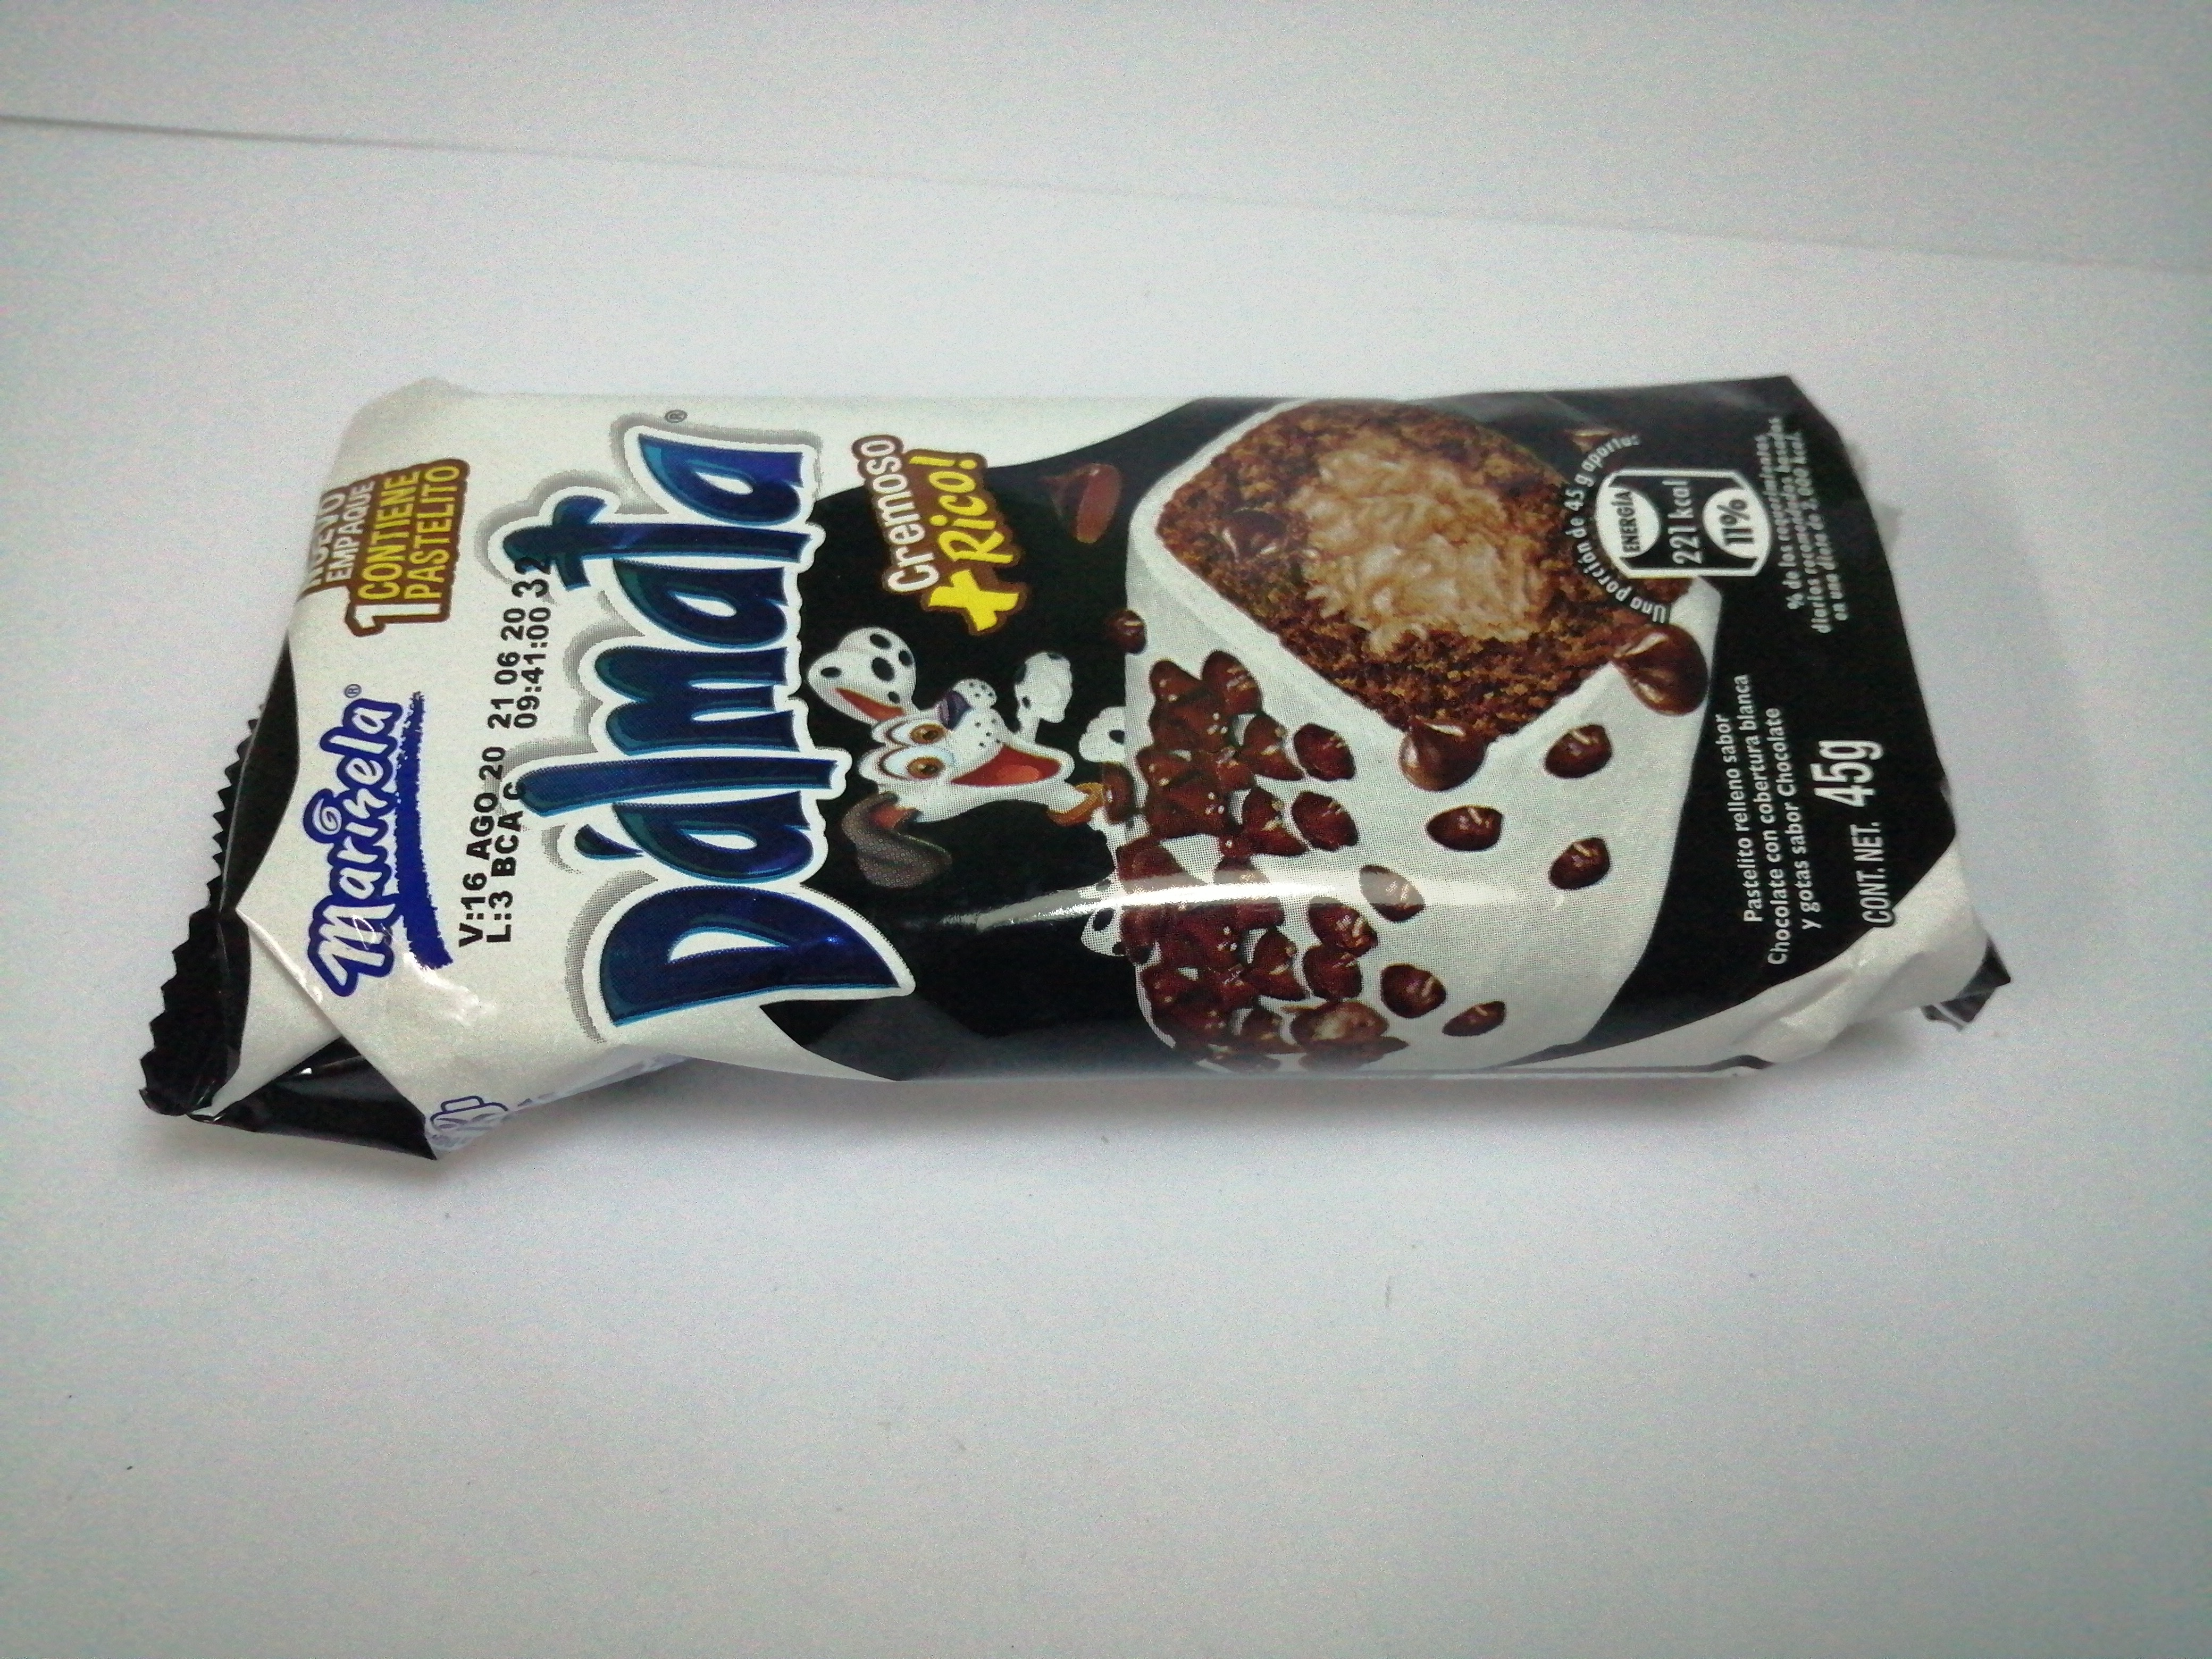dalmata: (124, 373, 2038, 1166)
